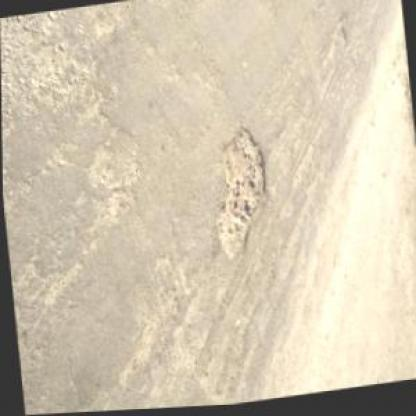pothole: (205, 125, 273, 266), (322, 18, 351, 61)
